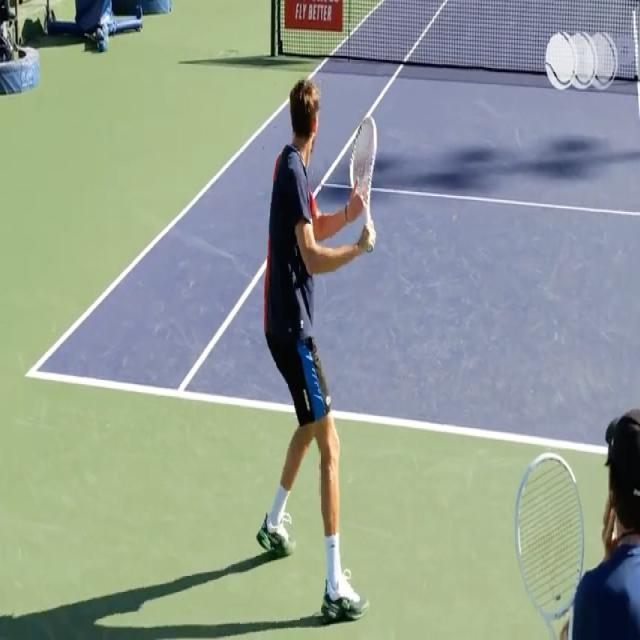forehand-ready: (270, 75, 387, 638)
